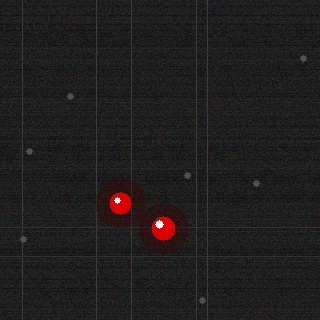red_fault: (149, 214, 177, 242), (107, 190, 133, 216)
